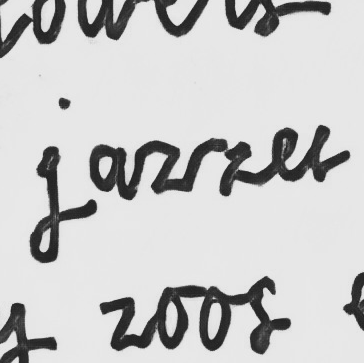a: (86, 141, 129, 202)
e: (267, 126, 301, 185)
j: (28, 96, 72, 264)
s: (303, 122, 337, 185)
z: (208, 136, 256, 199), (132, 138, 184, 196)
